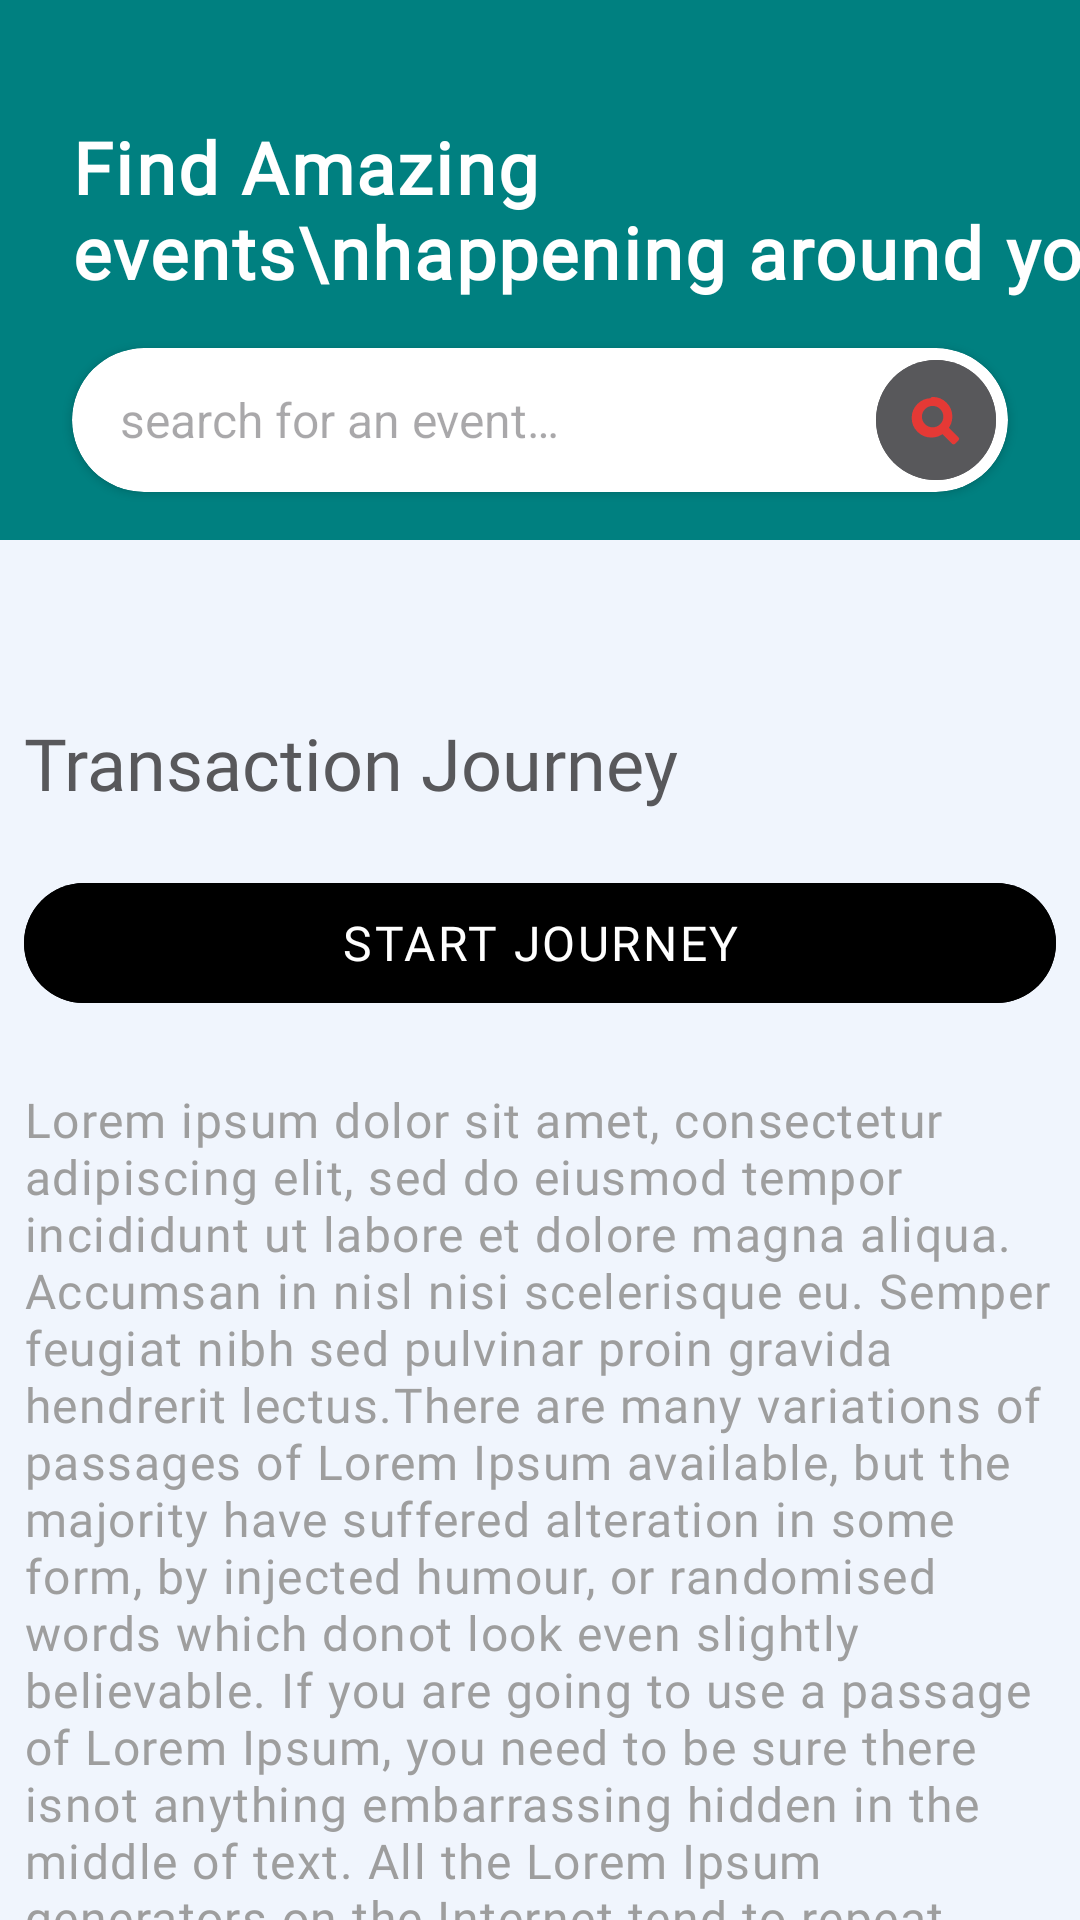

Icon click points for this 1080×1920 phone screenshot, format point (x, y):
serach: point (936, 420)
